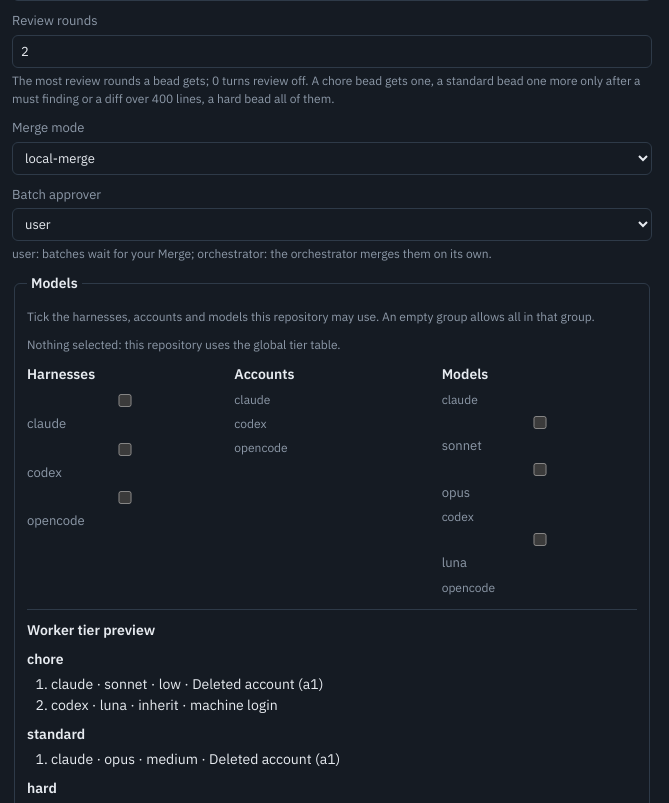
Test: repository model filter › keeps deleted tier accounts in previews with no account restriction
The image size is (669, 803).
(page scrolled)
Check: the checkbox labelled "opus" is shown, box [446,462,634,476]
Check: the list item "claude · sonnet · low · Deleted account (a1)" is shown, box [51,674,323,692]
Step 1. Click the checkbox labelled "claude" → click(125, 400), box [31,394,219,407]
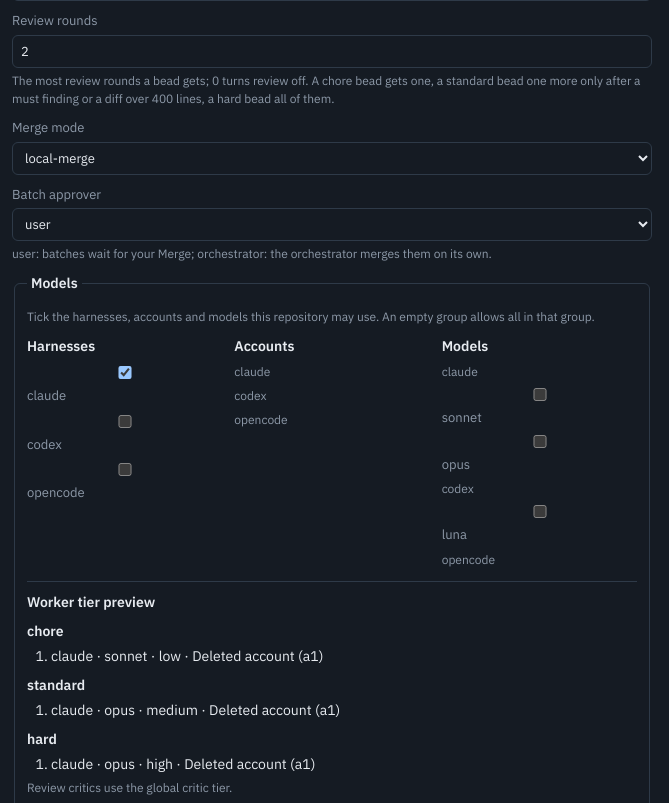
Check: the list item "codex · luna · inherit · machine login" is gone
Check: the number of list items is 3, box [51,646,323,664]; [51,700,340,718]; [51,754,315,772]
Step 2. Click the checkbox labelled "opus" → click(540, 441), box [446,434,634,448]
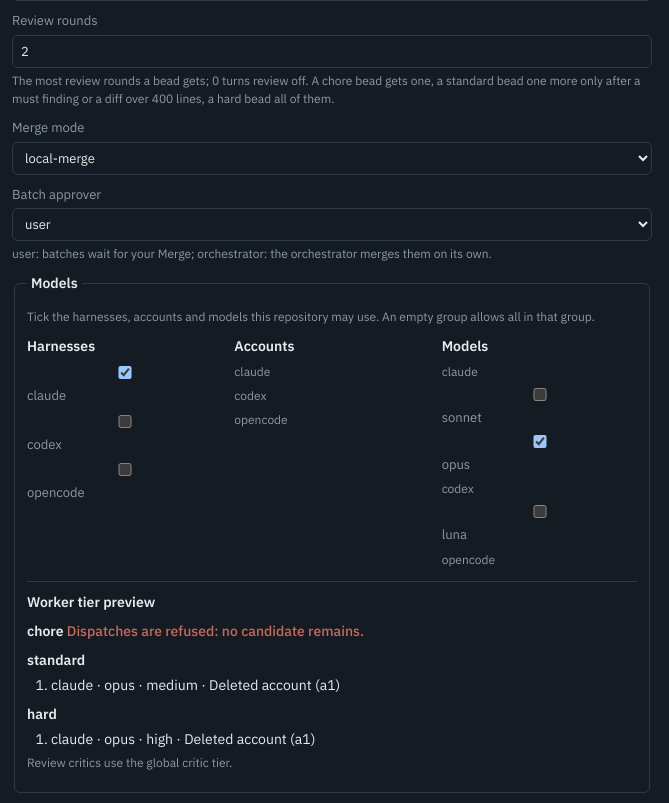
Check: the list item "claude · opus · medium · Deleted account (a1)" is shown, box [51,676,340,694]
Check: the text "Dispatches are refused: no candidate remains." is shown once, box [64,622,364,640]
